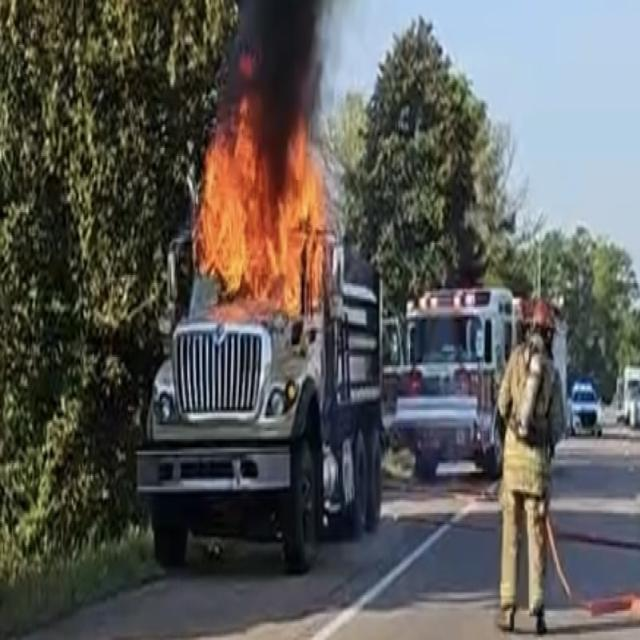Fire: (196, 98, 329, 326)
Smoke: (216, 0, 334, 149)
